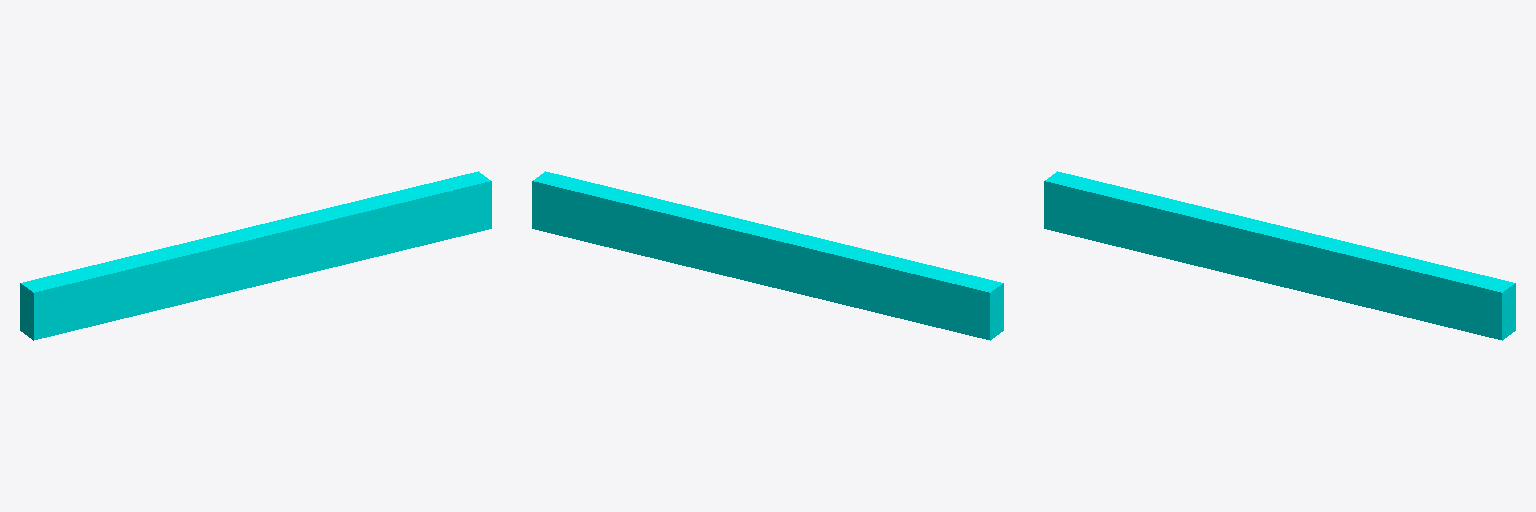
The robot description file, URDF, robot "ball":
<?xml version="0.0" ?>
<robot name="ball">
    <link name="wall">
        <contact>
            <lateral_friction value="1"/>
        </contact>

        <inertial>
            <origin xyz="0 0 0" rpy="0 0 0"/>
            <mass value="0.0"/>
            <inertia ixx="0"  ixy="0"  ixz="0" iyy="0" iyz="0" izz="0" />
        </inertial>

        <visual>
            <origin xyz="0 0 0" rpy="0 0 0" />
            <geometry>
                <box size="20 1 2" />
            </geometry>
            <material name="Cyan">
                <color rgba="0 1.0 1.0 1.0"/>
            </material>
        </visual>

        <collision>
            <origin xyz="0 0 0" rpy="0 0 0"/>
            <geometry>
                <box size="20 1 2" />
            </geometry>
        </collision>
    </link>
</robot>

--- What the picture shows (computed from the rendered views, not written in the file) ---
Views: 3 orthographic renders of the robot side by side, from view 1: azimuth 30°, elevation 25°; view 2: azimuth 150°, elevation 25°; view 3: azimuth 330°, elevation 25°.
Model ball with 1 links and 0 joints (none), rooted at wall, posed all joints at 0.
Links seen in each view (by area): view 1: wall; view 2: wall; view 3: wall.
Link boxes in pixels (x1=…): wall: x1=20, y1=171, x2=491, y2=340; wall: x1=532, y1=171, x2=1003, y2=340; wall: x1=1044, y1=171, x2=1515, y2=340.
Bounding box of the posed robot: 20 × 1 × 2 m (x, y, z).
Geometry: primitives only (box / cylinder / sphere), no mesh files.